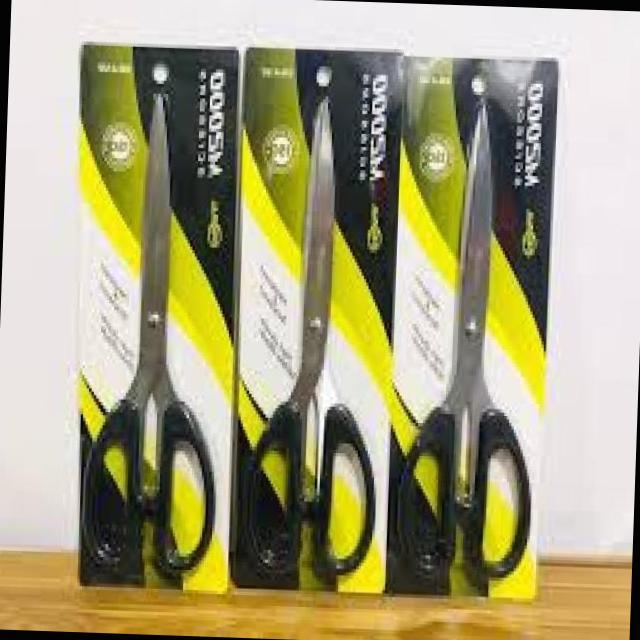Scissors: (54, 50, 253, 606), (222, 56, 412, 602), (380, 66, 560, 609)
